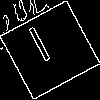I: (24, 25, 59, 72)
